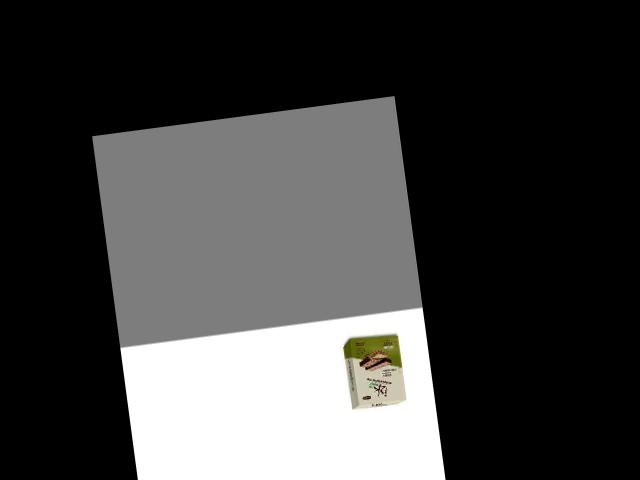chocolate: (338, 328, 413, 412)
